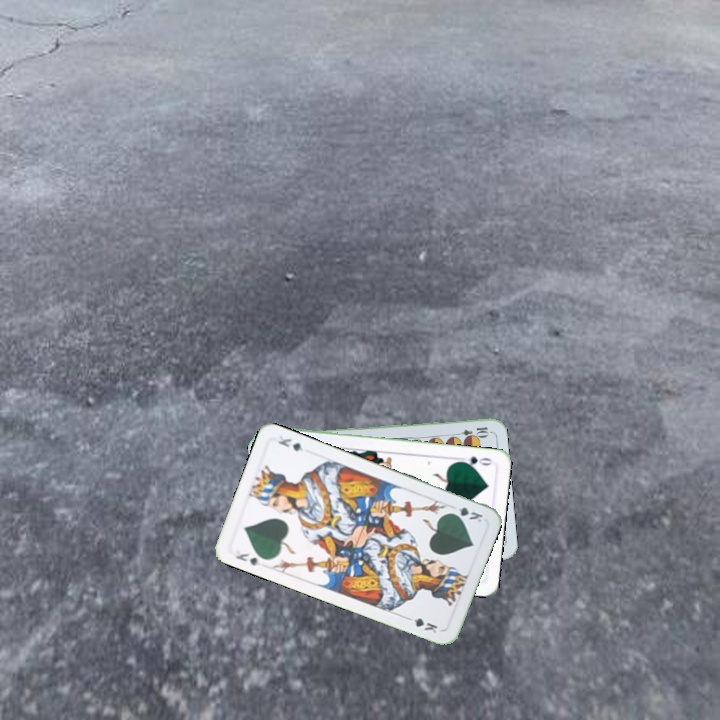E10: (450, 423, 491, 440)
GK: (445, 502, 485, 525), (231, 549, 263, 569)
GO: (454, 452, 495, 469)
